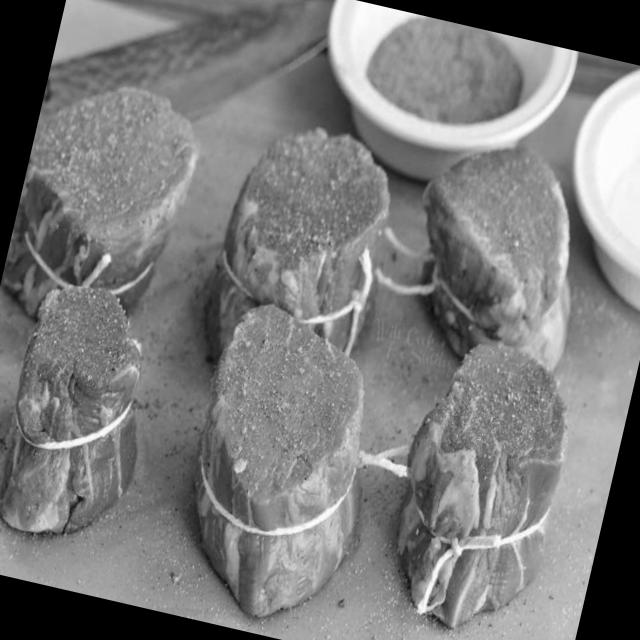beef tenderloin steak: (167, 303, 403, 630), (373, 323, 589, 640), (0, 74, 209, 326), (390, 134, 595, 389), (0, 279, 174, 551), (220, 136, 406, 375)
